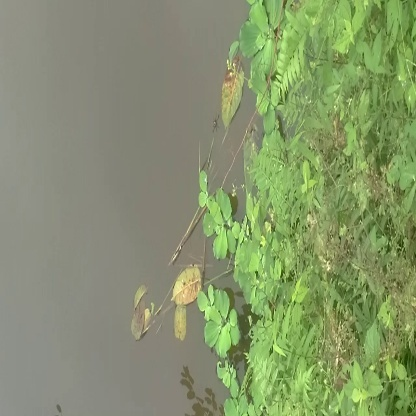leaf: (216, 59, 249, 131), (169, 259, 204, 307)
